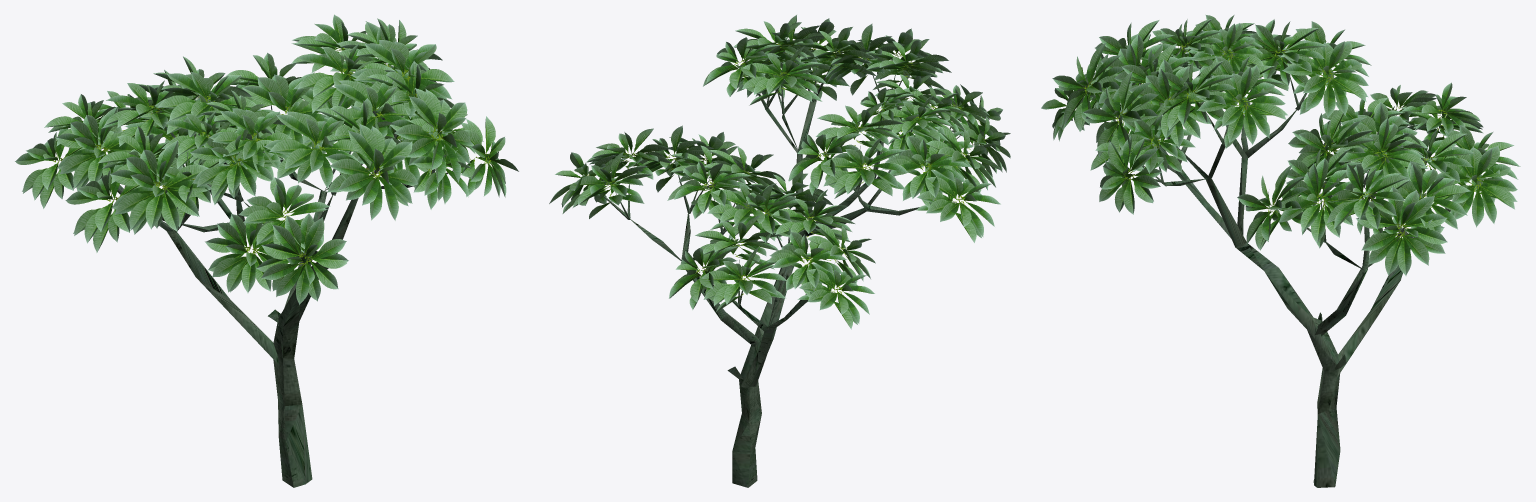
File: Tree2.fbx
3 renders of one model, left to right at view 1: azimuth 30°, elevation 25°; view 2: azimuth 150°, elevation 25°; view 3: azimuth 270°, elevation 25°, orthographic. The views are drawn at different scales.
Parts seen in each view (by area): view 1: JASMIM+MANGA; view 2: JASMIM+MANGA; view 3: JASMIM+MANGA.
Part boxes in pixels (x1,y1,x2,y2): JASMIM+MANGA: [15, 14, 518, 487]; JASMIM+MANGA: [549, 15, 1010, 487]; JASMIM+MANGA: [1041, 14, 1520, 487].
Size of the model in its own units: 558 by 608 by 607.
